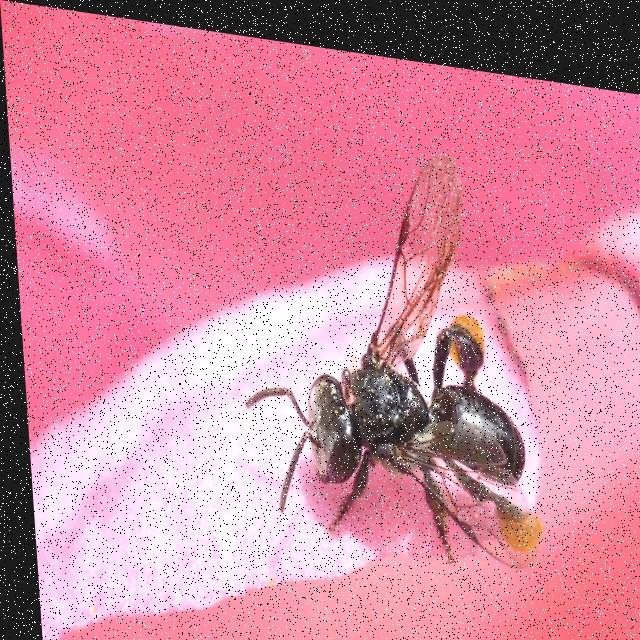Allodapula: (251, 87, 555, 609)
